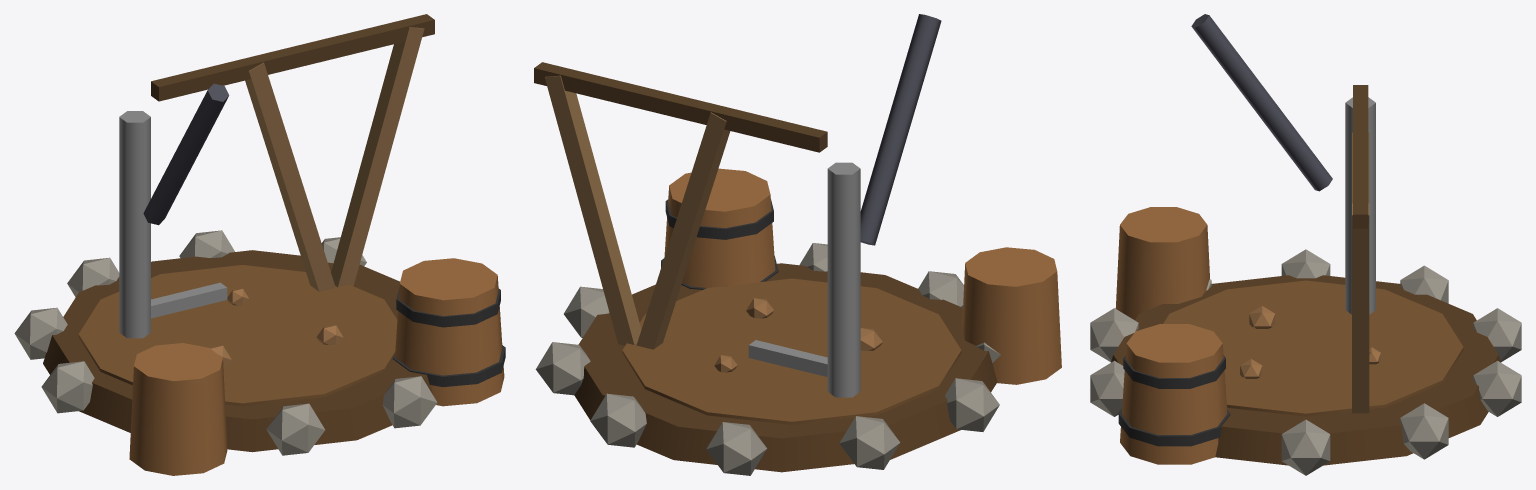
File: goblin-level2.glb
3 renders of one model, left to right at view 1: azimuth 30°, elevation 25°; view 2: azimuth 150°, elevation 25°; view 3: azimuth 270°, elevation 25°, orthographic. The views are drawn at different scales.
Visible parts, largest first — view 1: object 2, object 1, object 24, object 11, object 9, object 7, lever, object 6, object 25, object 17, object 16, object 19 (+6 smaller); view 2: object 2, object 1, object 24, object 11, object 9, object 7, lever, object 6, object 25, object 20, object 21, object 22 (+7 smaller); view 3: object 2, object 1, object 11, object 24, object 25, object 7, object 9, lever, object 14, object 23, object 22, object 17 (+7 smaller).
Part boxes in pixels (x1,y1,x2,y2): object 2: (78,265,397,406); object 1: (43,250,432,452); object 24: (129,343,227,475); object 11: (395,258,504,406); object 9: (119,111,150,338); object 7: (331,27,424,287); lever: (151,14,434,101); object 6: (245,62,335,291); object 25: (143,83,229,225); object 17: (266,403,324,455); object 16: (382,376,437,428); object 19: (41,361,94,413); object 2: (622,278,961,424); object 1: (574,263,997,472); object 24: (962,247,1061,384); object 11: (664,168,775,287); object 9: (827,162,860,397); object 7: (544,75,641,345); lever: (534,62,827,152); object 6: (636,112,730,349); object 25: (860,14,941,245); object 20: (839,416,900,469); object 21: (706,422,767,475); object 22: (590,393,646,447); object 2: (1163,280,1463,416); object 1: (1111,275,1500,465); object 11: (1120,324,1227,464); object 24: (1115,207,1209,320); object 25: (1191,14,1332,191); object 7: (1352,203,1369,413); object 9: (1345,97,1375,314); lever: (1353,85,1368,228); object 14: (1281,419,1330,475); object 23: (1400,403,1448,459); object 22: (1473,360,1521,416); object 17: (1090,308,1138,362).
Bounding box in the file's own units: 2.21 × 1.77 × 2.09.
